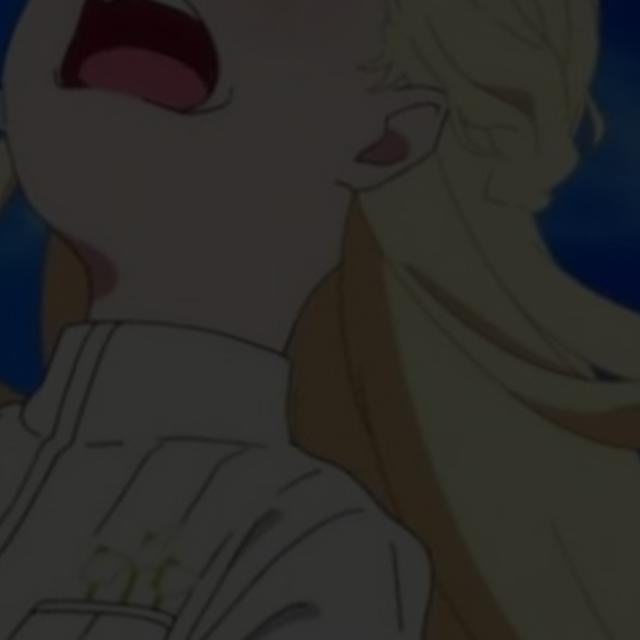Sad: (0, 0, 468, 345)
